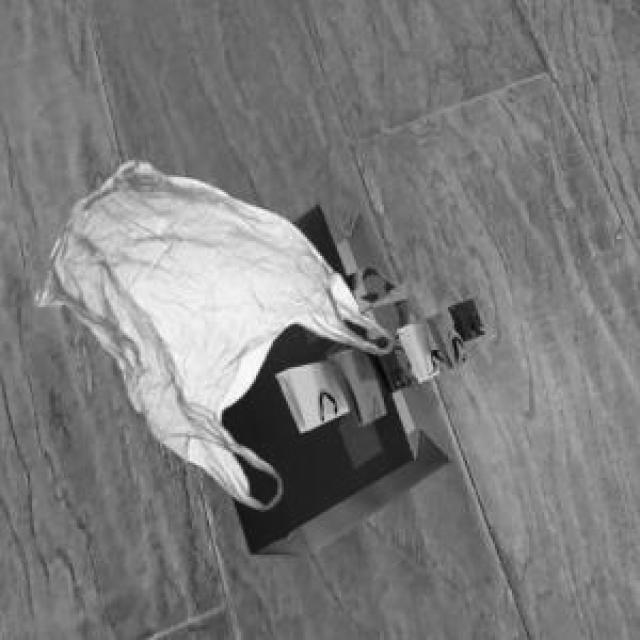paper: (216, 201, 448, 550), (273, 297, 480, 429)
